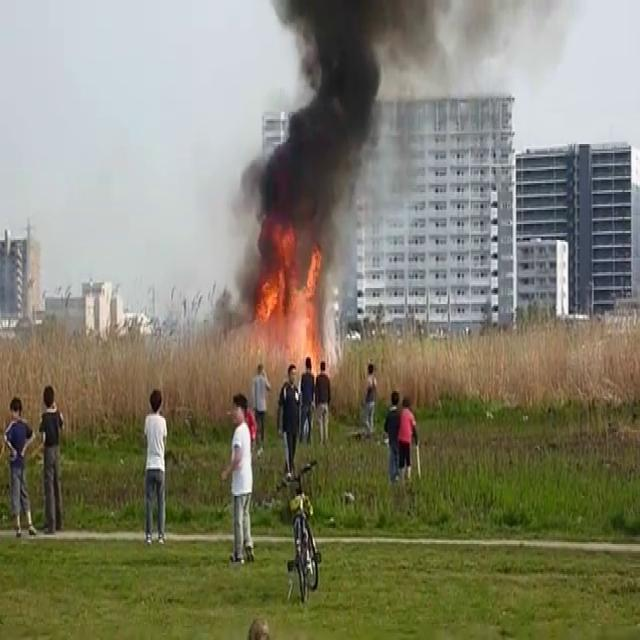Fire: (247, 222, 331, 372)
Smoke: (230, 0, 412, 265)
